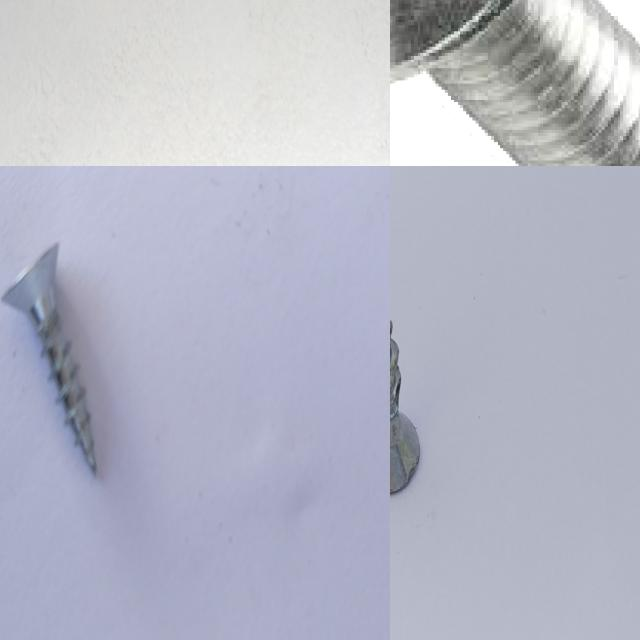Screw: (390, 0, 640, 166), (2, 242, 97, 474), (390, 319, 419, 493)
